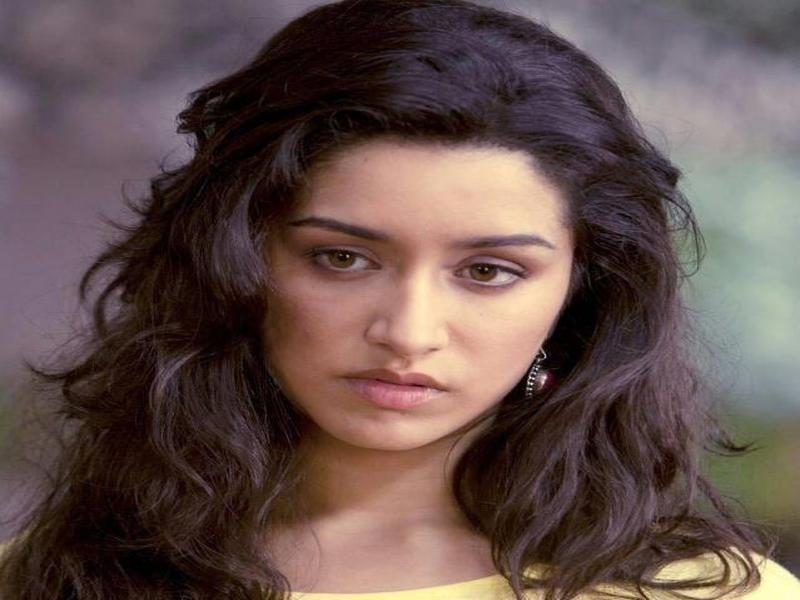without_mask: (278, 170, 563, 450)
